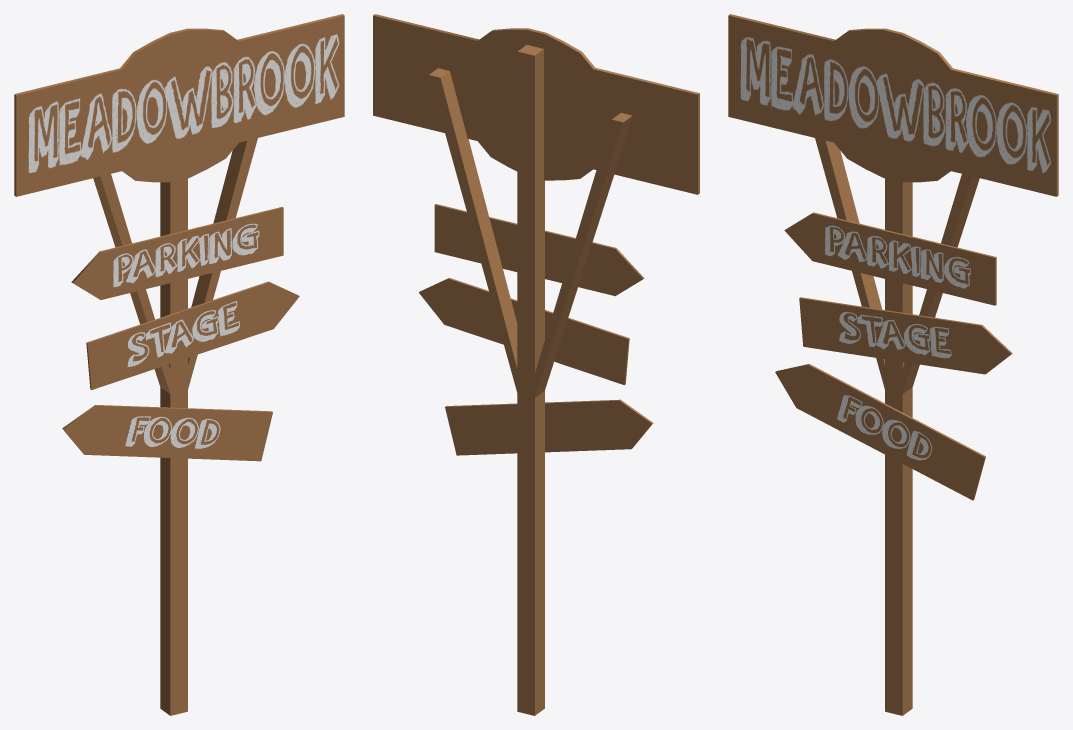
Rendered from DirectionSign.FBX.
3 renders of one model, left to right at view 1: azimuth 30°, elevation 25°; view 2: azimuth 150°, elevation 25°; view 3: azimuth 330°, elevation 25°, orthographic.
Parts seen in each view (by area): view 1: Box001; view 2: Box001; view 3: Box001.
Boxes of the visible parts, x1,y1,x2,y2 form: Box001: (14, 14, 344, 715); Box001: (373, 14, 699, 715); Box001: (728, 14, 1058, 715).
Bounding box in the file's own units: 36.05 × 71.57 × 2.21.
1 material, 1 textured.
